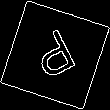P_SE: (27, 24, 83, 86)
